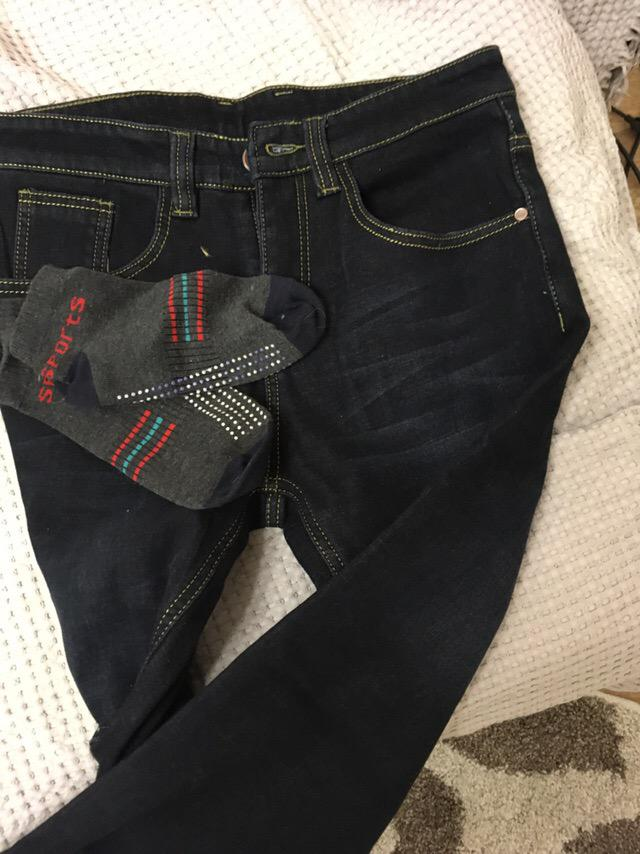jeans: (10, 42, 595, 854)
